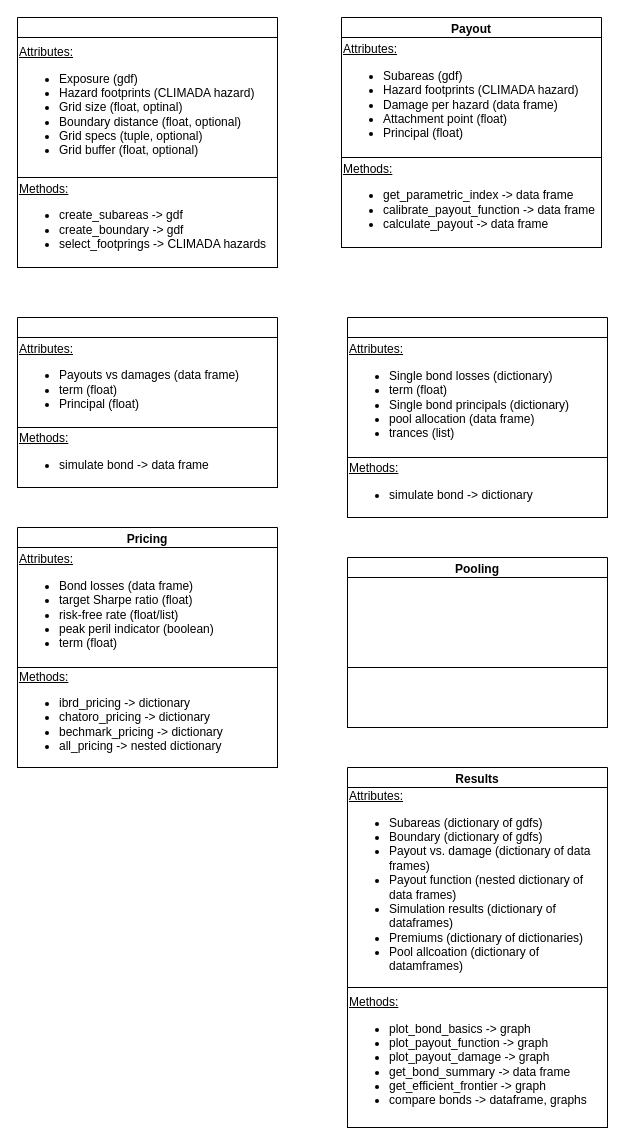
The diagram is 625 pixels wide and 1145 high, and some of its shapes have lost their labels. The box of each missing label's shape, as (x1, y1, x2, y2) in pixels:
Attributes: losses -> dictionary constraints objective: (346, 576, 608, 668)
BondBasics: (16, 16, 278, 268)
Methods: optimal_pool_allocation -> data frame: (346, 666, 608, 728)
MultiBond: (346, 316, 608, 518)
SingleBond: (16, 316, 278, 488)
